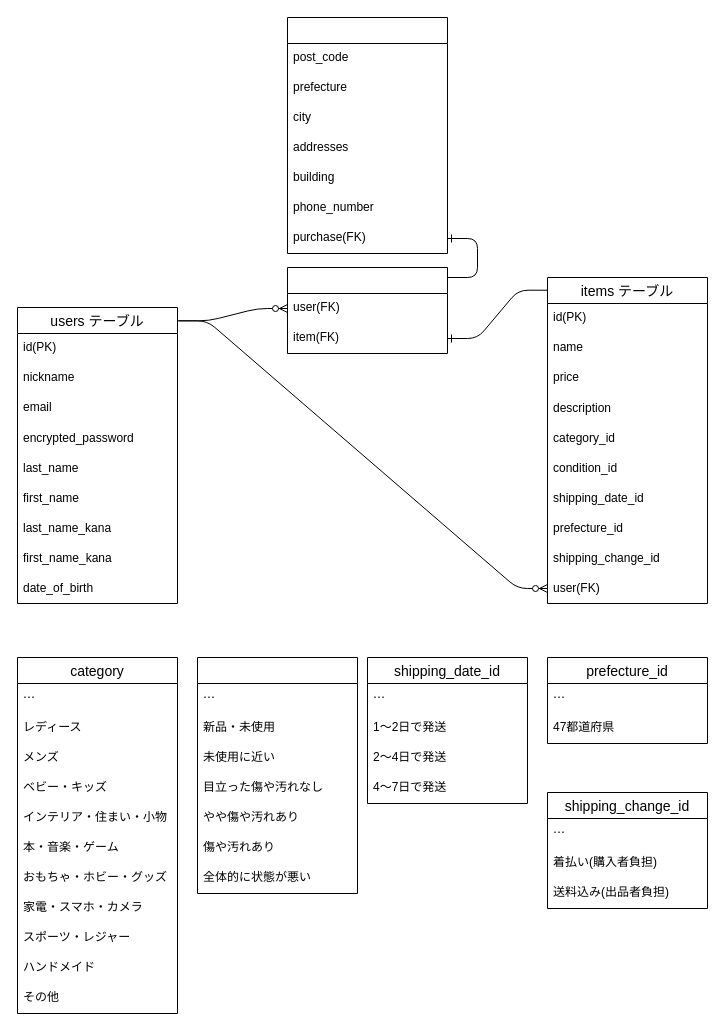
Image size: 725x1034. Some labels were removed from this diagram. Each missing label, with the box of its shape:
condition: (196, 656, 358, 894)
purchases テーブル: (286, 266, 448, 354)
shippings テーブル: (286, 16, 448, 254)
